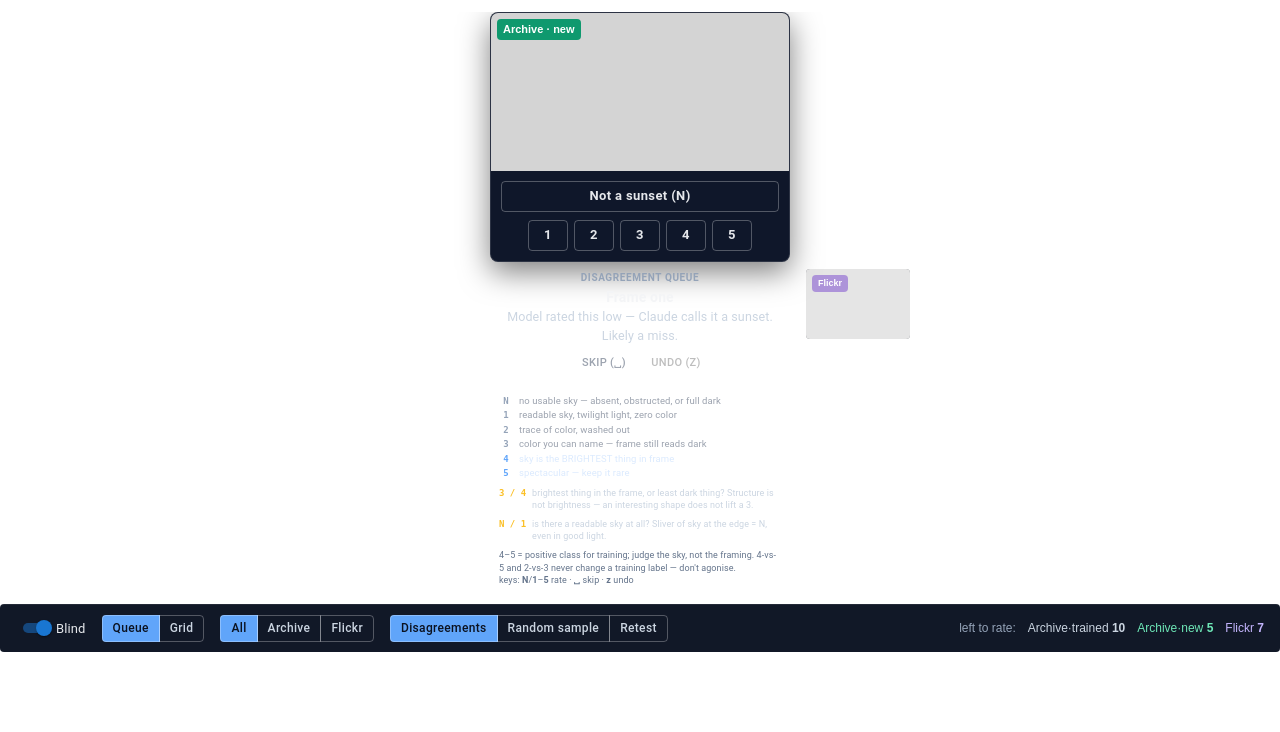
Test: HardExamplesQueue random-sample queue › shows progress through the draw, not the remaining-by-provenance buckets
Click the button "Random sample" at point(553, 628), box 497,615 -> 610,642
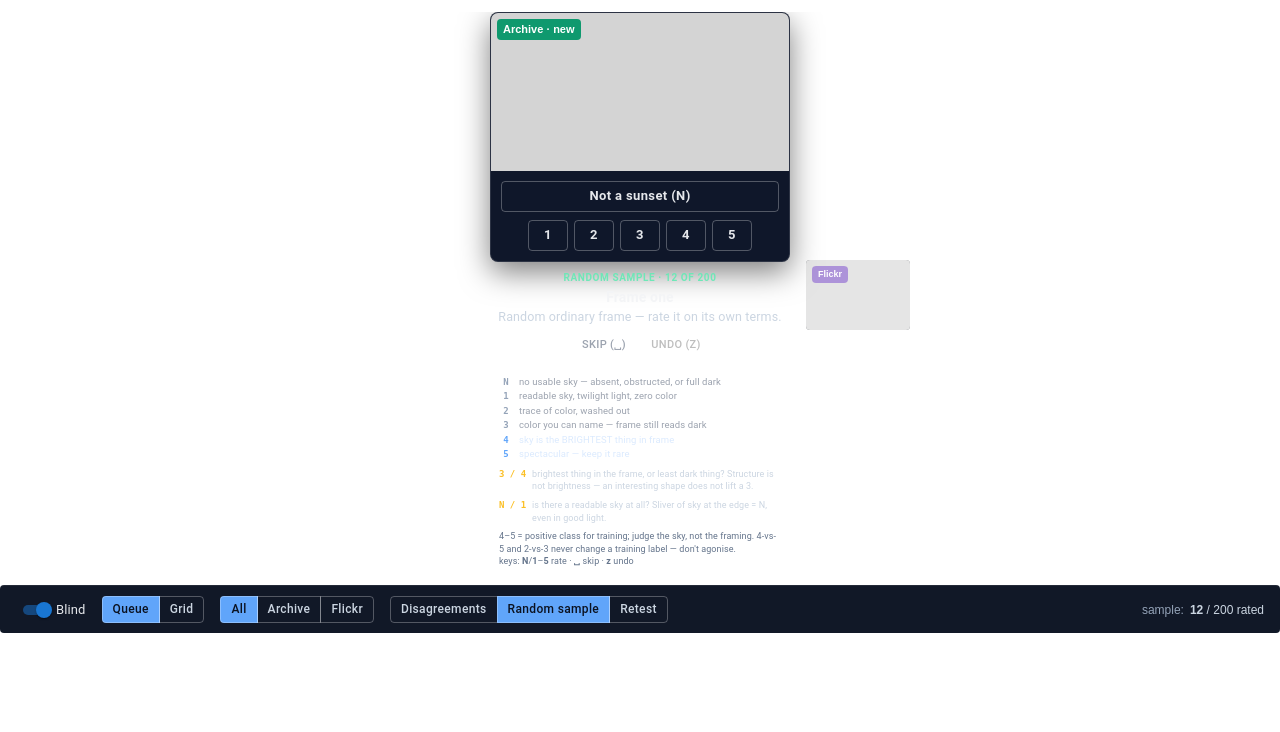
Result: the element with test id "sample-progress" shows "12 / 200" at 1142,600 -> 1264,618
Result: the text "left to rate:" is gone
